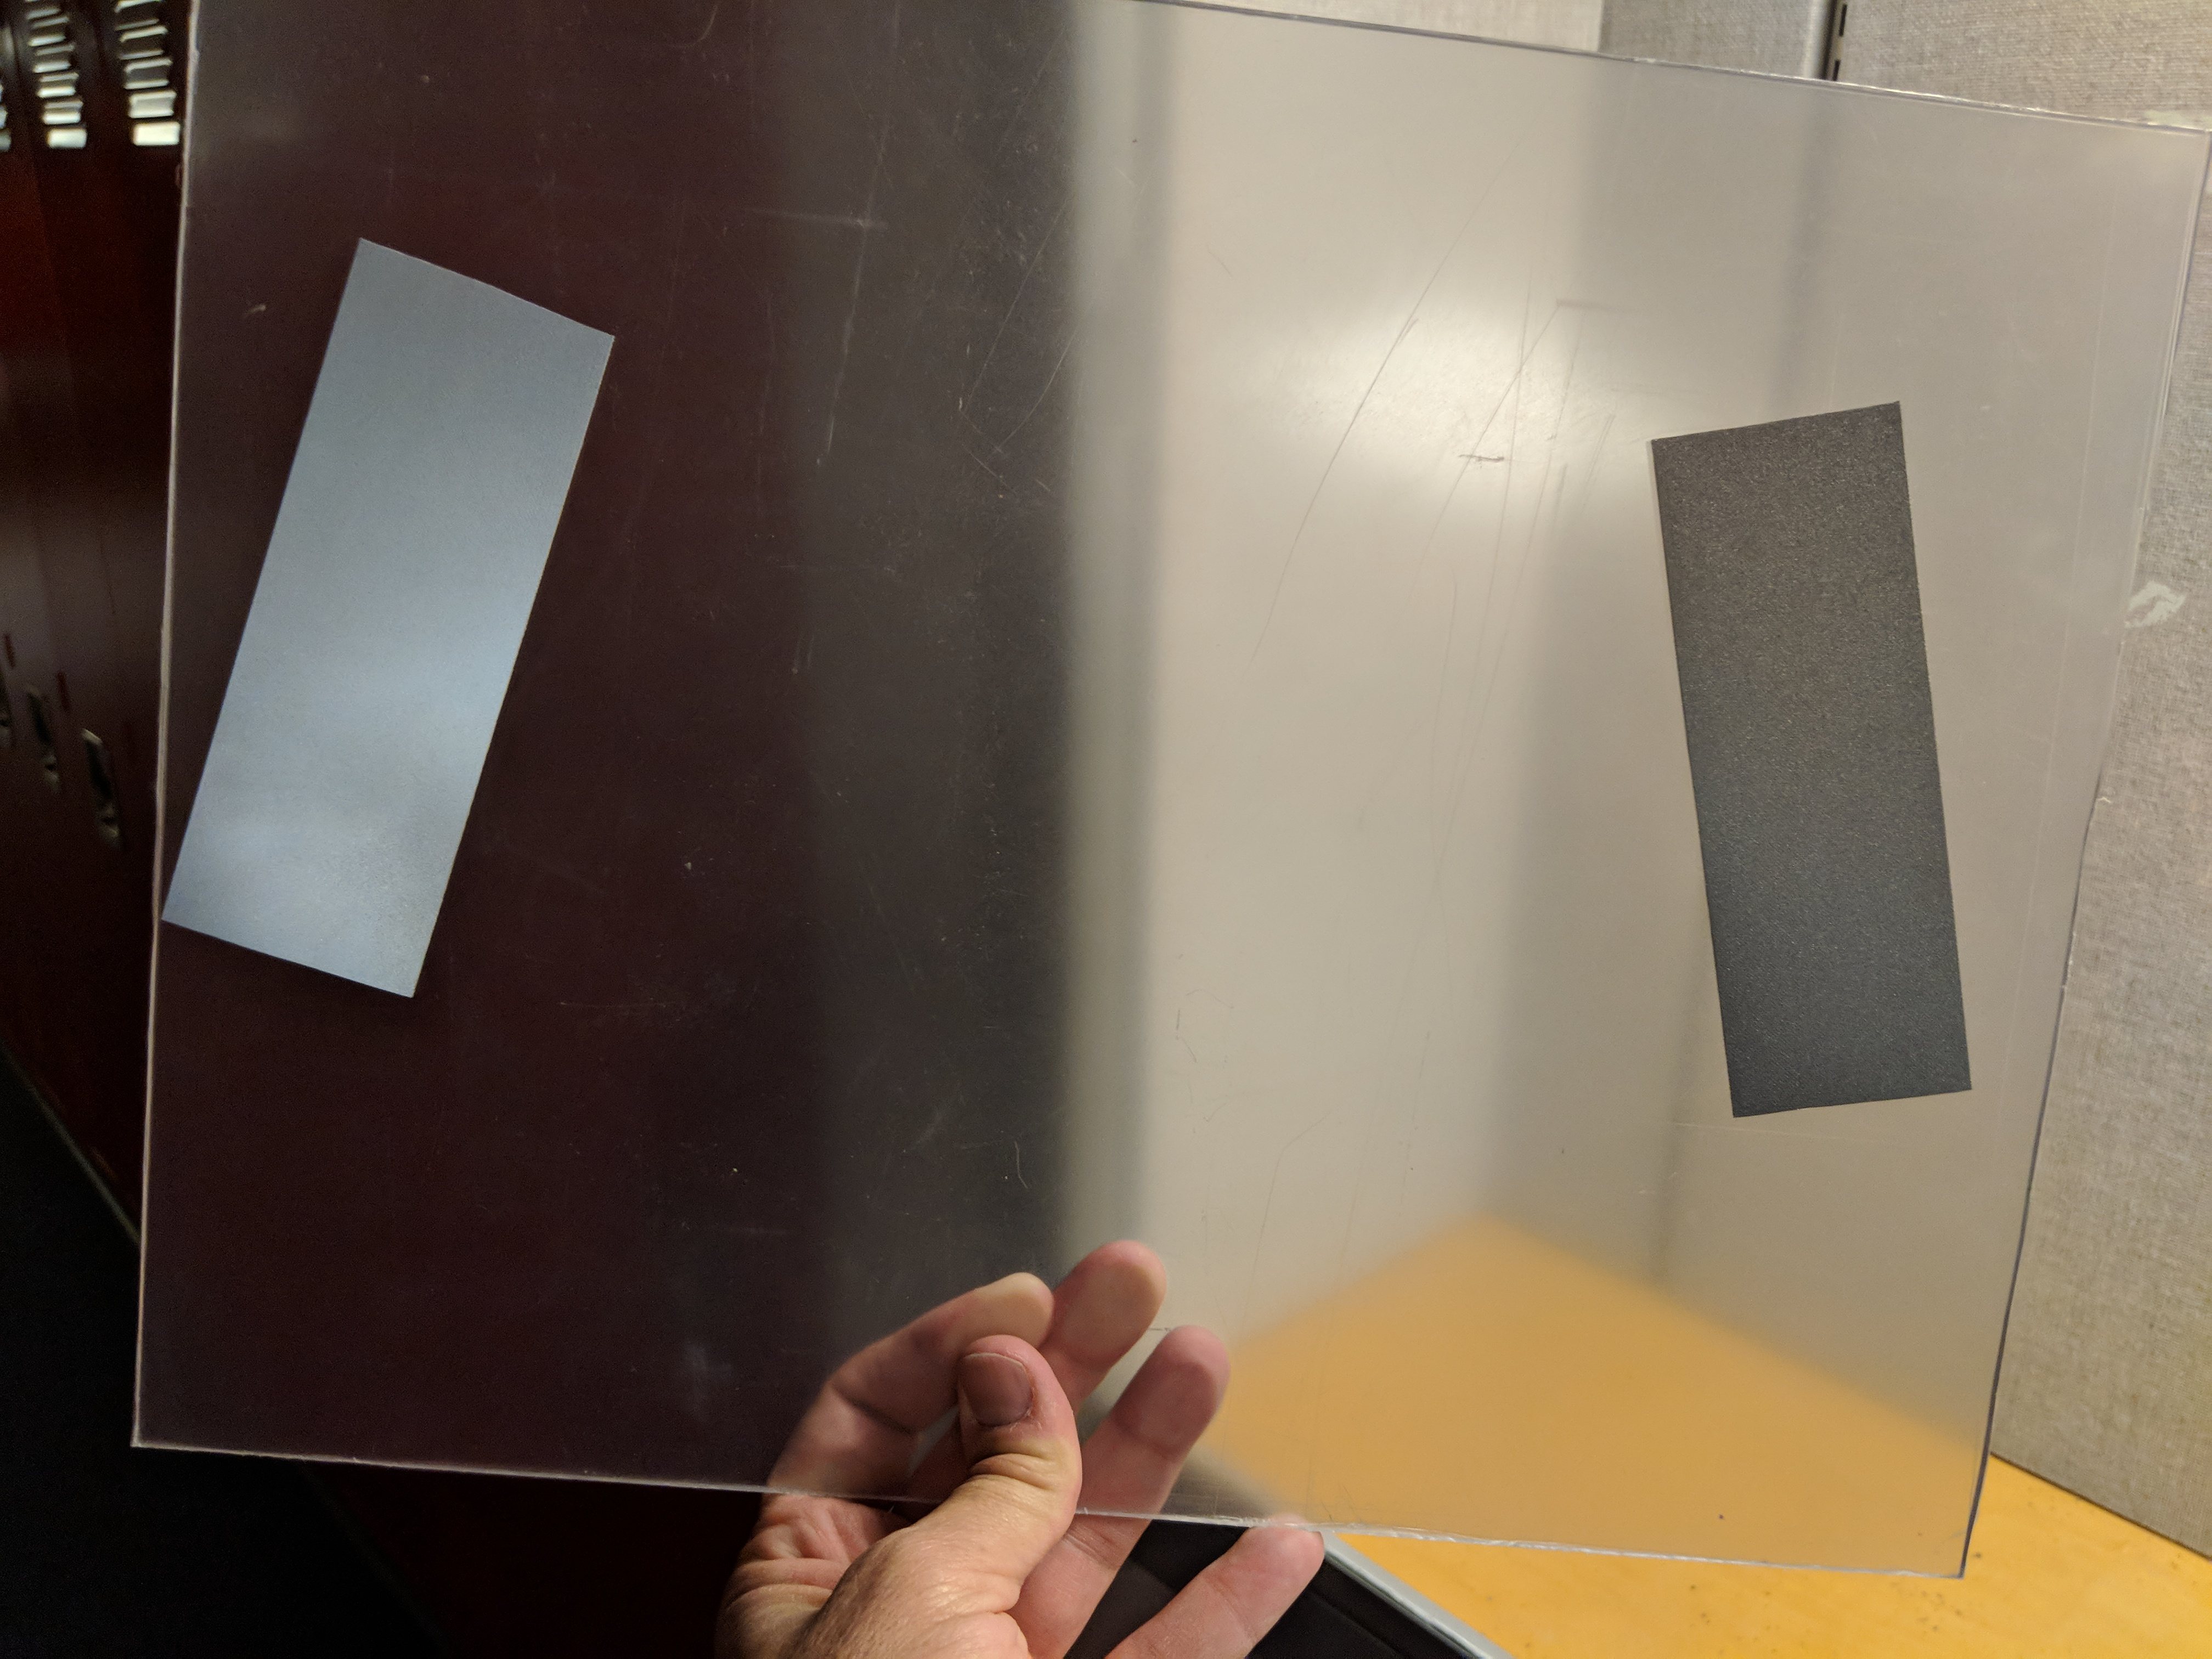vision_target: (134, 220, 2003, 1152)
